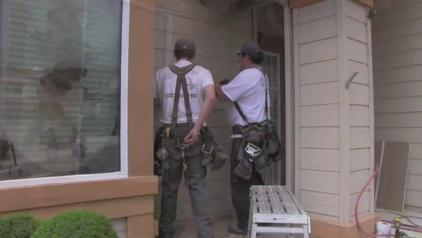crouch: (209, 45, 277, 150)
sit: (42, 59, 81, 98)
stay: (153, 123, 228, 221), (227, 127, 264, 238)
